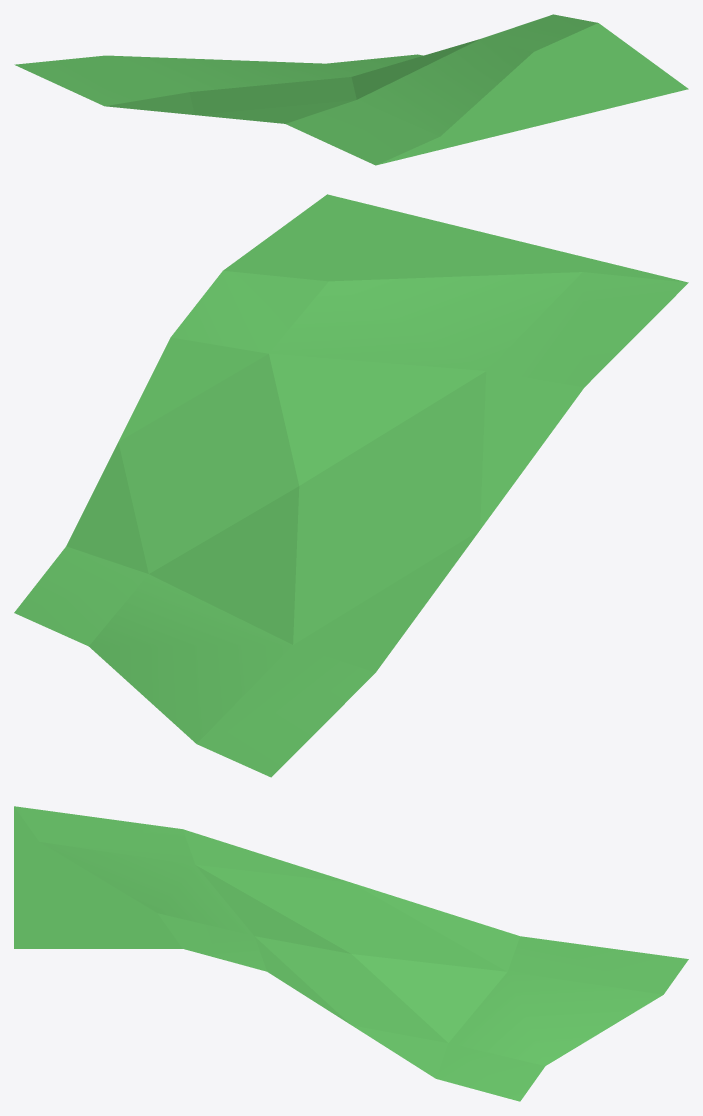
Rendered from Hilly_Terrain_Hill_Transition_Gentle_Sharp_Centered.glb.
3 renders of one model, top to bottom at view 1: azimuth 30°, elevation 25°; view 2: azimuth 150°, elevation 25°; view 3: azimuth 270°, elevation 25°, orthographic. The views are drawn at different scales.
Parts seen in each view (by area): view 1: Hilly_Terrain_Hill_Transition_Gentle_Sharp_Centered; view 2: Hilly_Terrain_Hill_Transition_Gentle_Sharp_Centered; view 3: Hilly_Terrain_Hill_Transition_Gentle_Sharp_Centered.
Part boxes in pixels (x1=…): Hilly_Terrain_Hill_Transition_Gentle_Sharp_Centered: x1=14, y1=14, x2=688, y2=165; Hilly_Terrain_Hill_Transition_Gentle_Sharp_Centered: x1=14, y1=194, x2=688, y2=777; Hilly_Terrain_Hill_Transition_Gentle_Sharp_Centered: x1=14, y1=806, x2=688, y2=1101.
Bounding box in the file's own units: 1.06 × 0.53 × 2.12.
